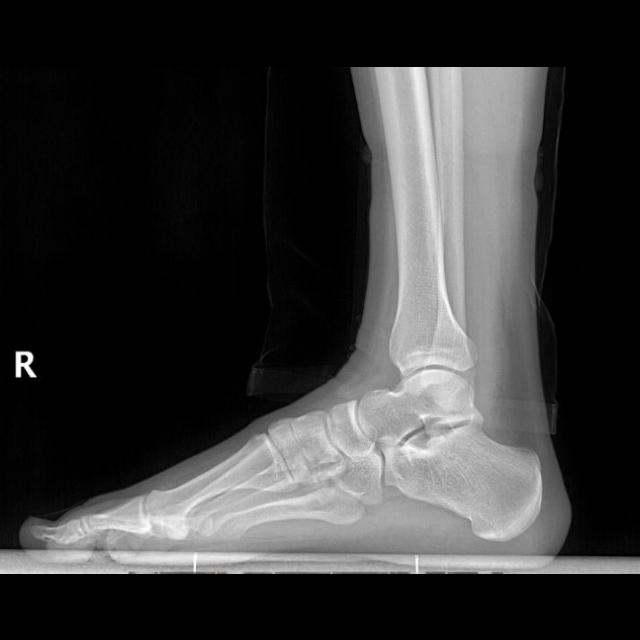a: (390, 423, 542, 539)
b: (326, 401, 378, 460)
c: (145, 432, 302, 539)
